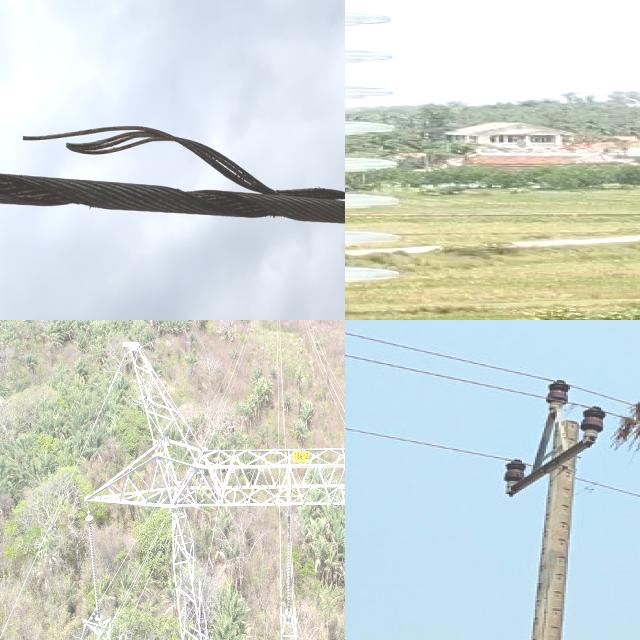杆塔: (85, 333, 345, 640)
植被遮挡: (612, 402, 640, 451)
正常绝缘子: (345, 0, 444, 320), (83, 508, 105, 632), (285, 512, 293, 616)
电缆破损: (14, 113, 345, 236)
